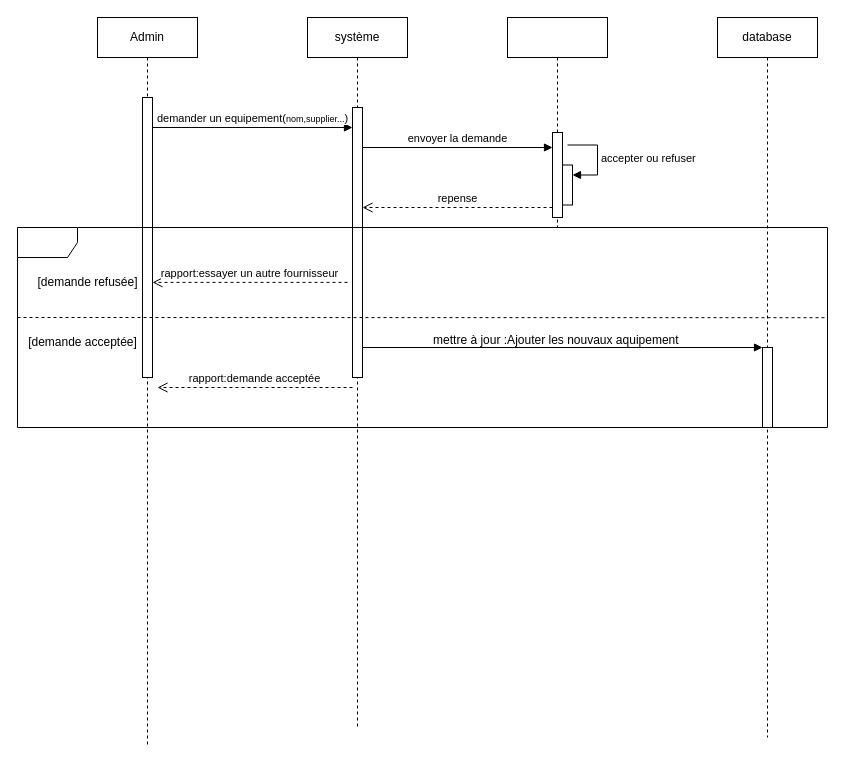
Some shapes in this 846 by 765 pixel diagram are drawn without their labels. Here are the shapes that lost their labels. From the top down, the box of each, then its label:
(506, 16, 608, 228): fournisseur
(16, 226, 828, 428): alt
